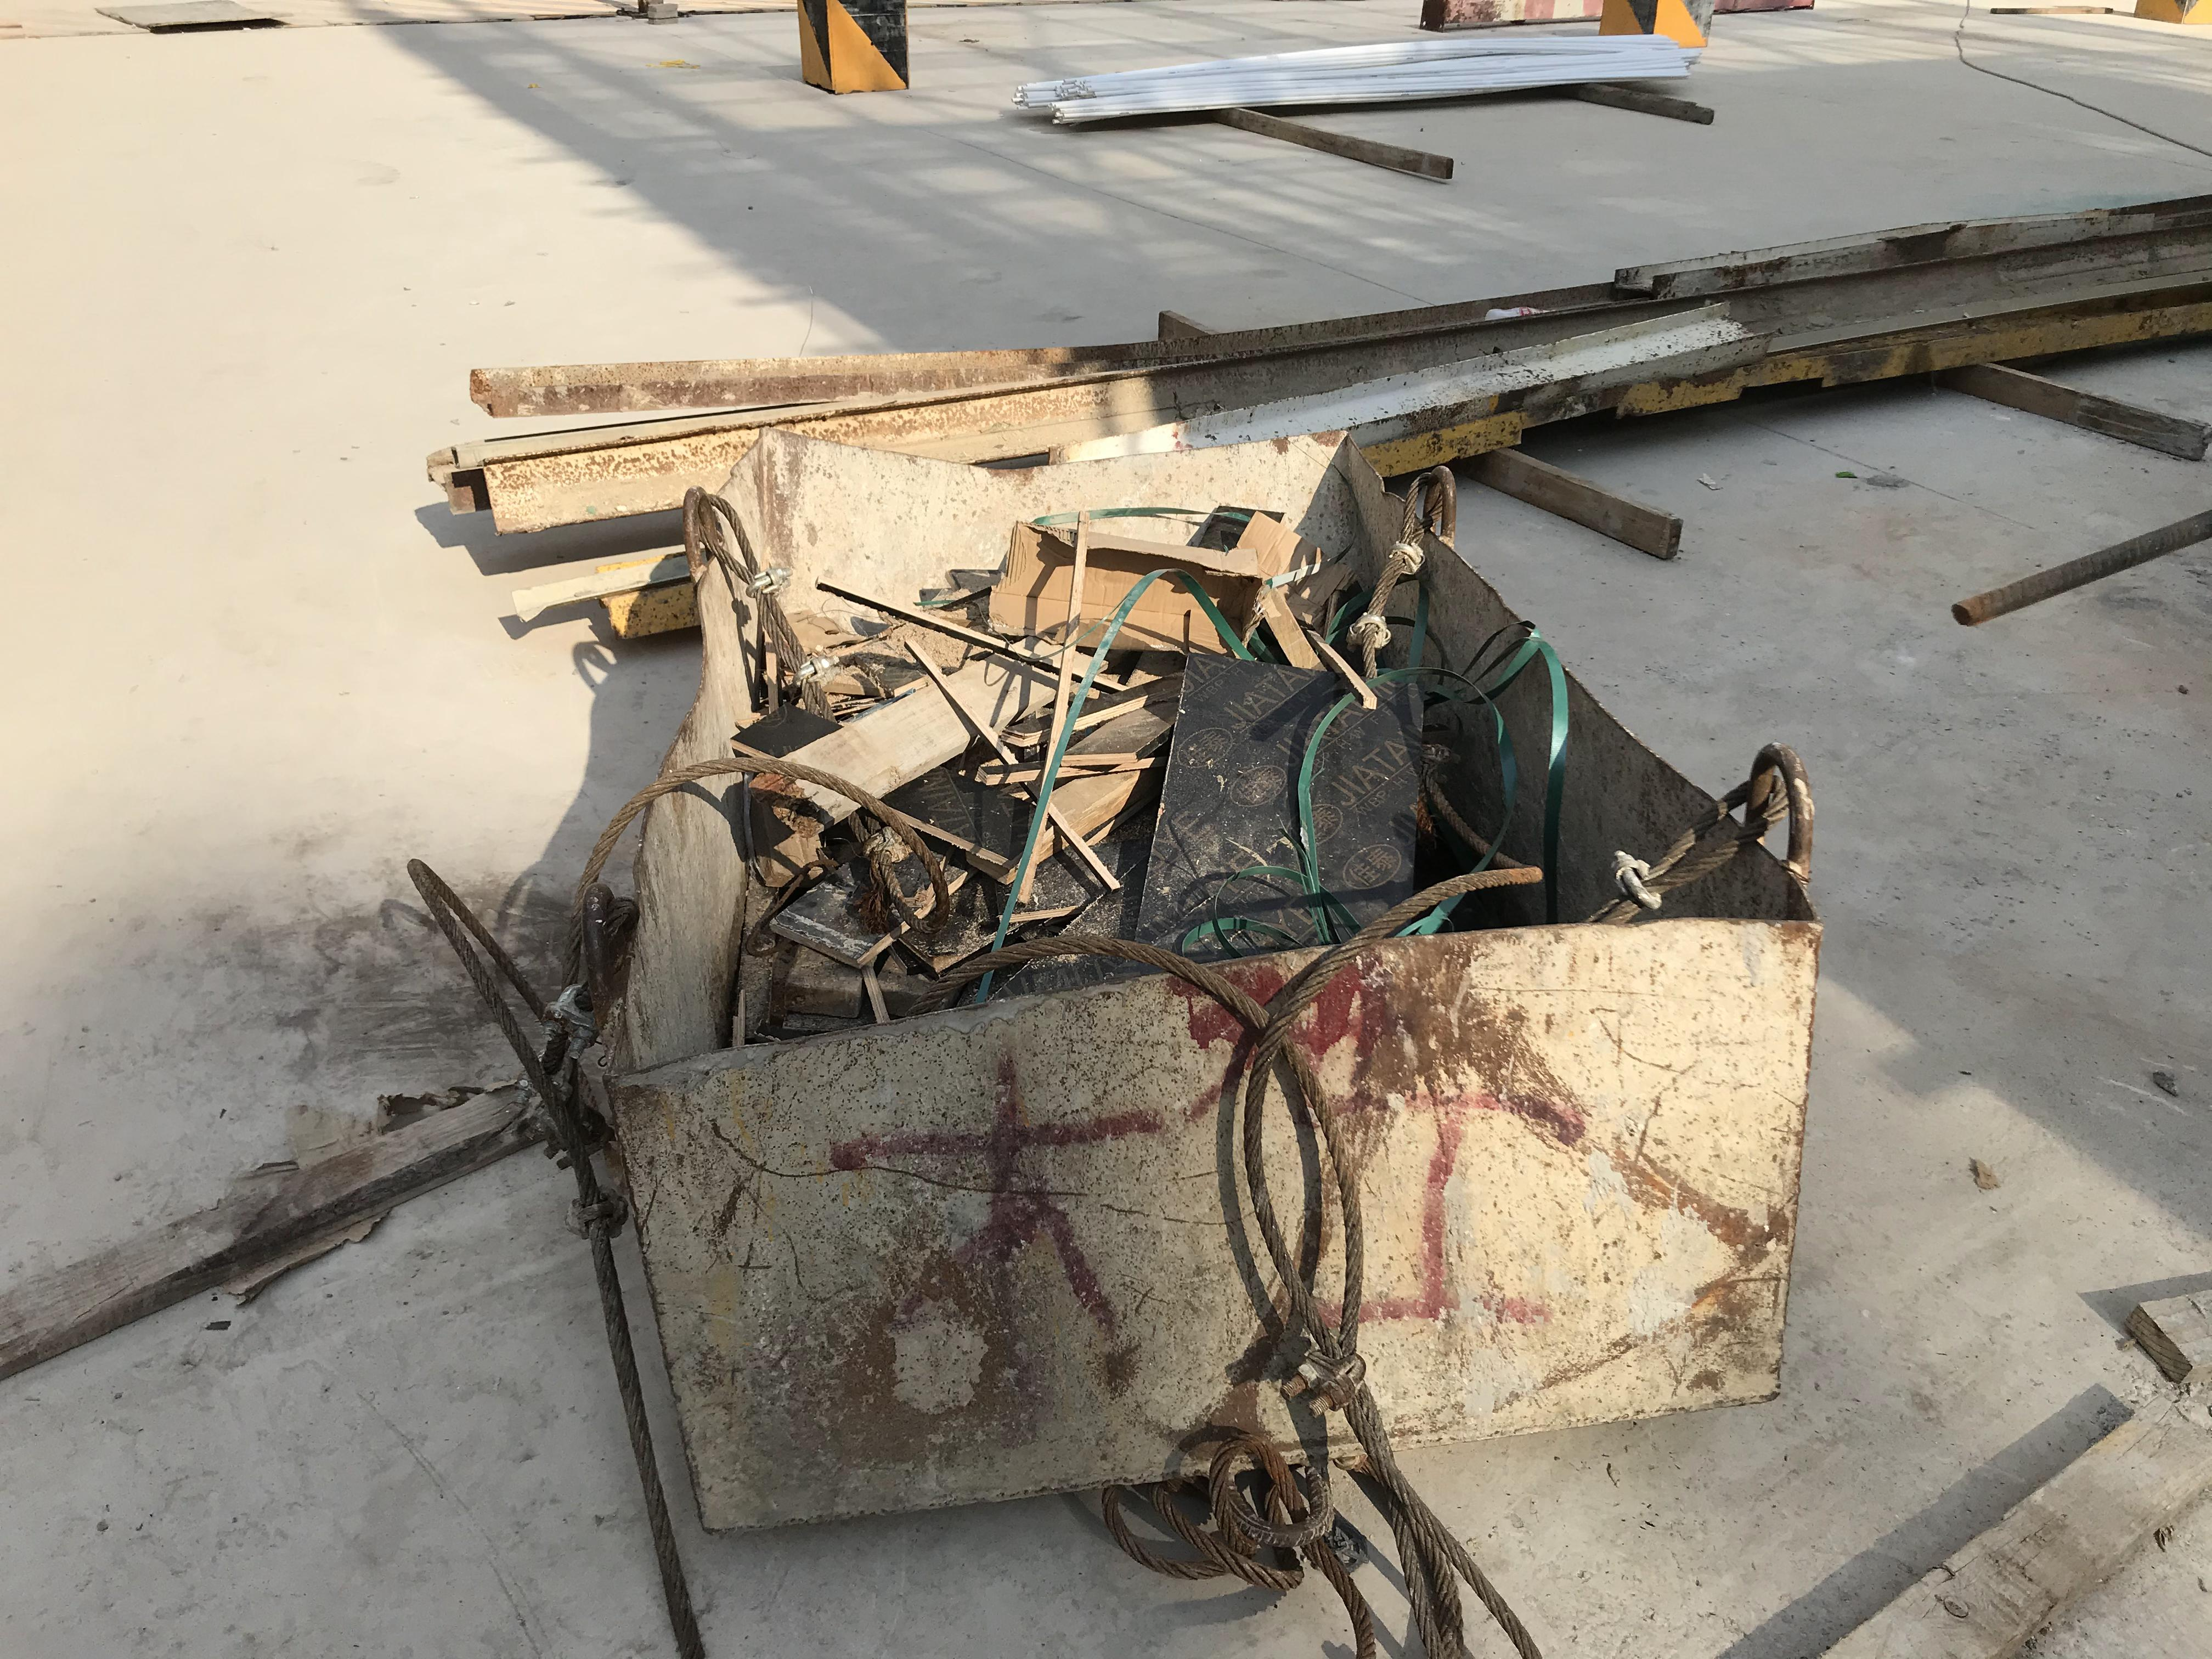hopper: (620, 420, 1824, 1549)
